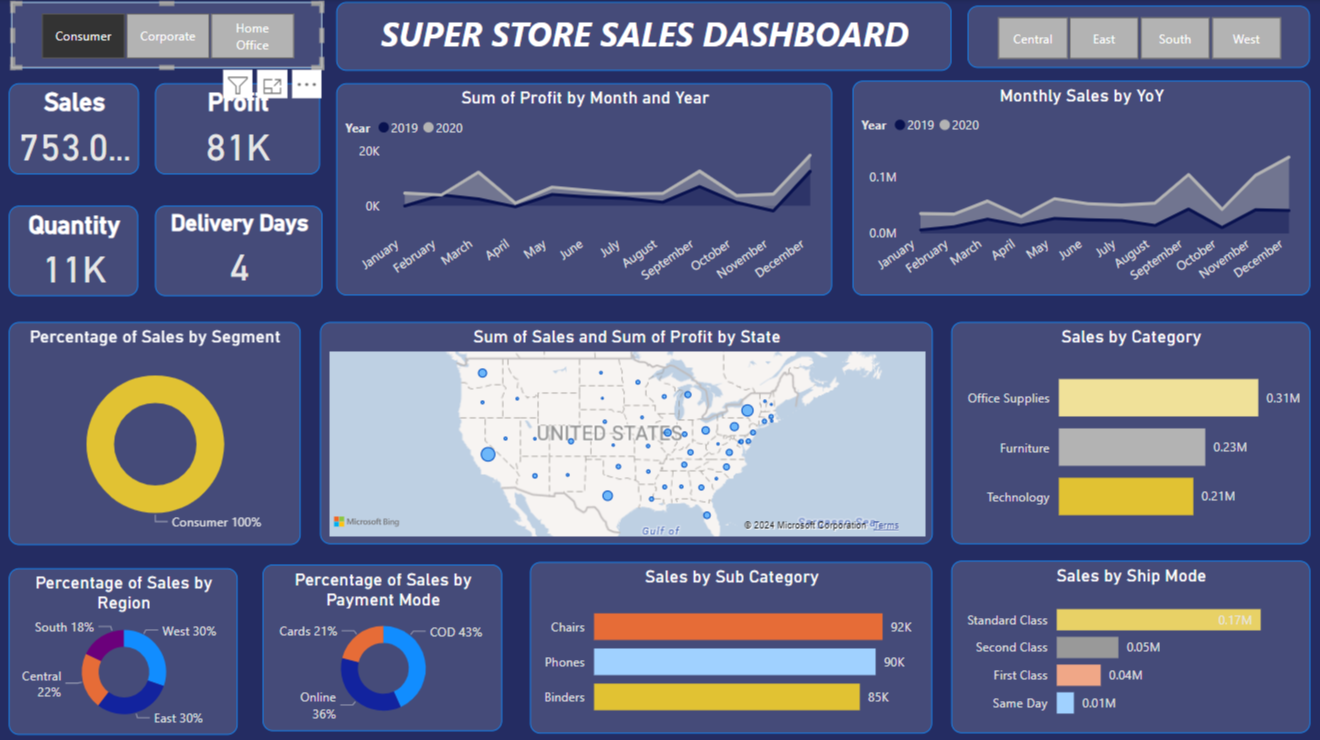

This screenshot's page, from the dashboard's own definition file:
{"tool":"powerbi","page":{"name":"Page 1","canvas":[1280,720],"ordinal":0},"visuals":[{"type":"clusteredBarChart","title":"Sales by Category","fields":{"Category":["SuperStore_Sales_Dataset.Category"],"Y":["Sum(SuperStore_Sales_Dataset.Sales)"]},"box":[920.2,311.2,346.1,214.7],"z":0},{"type":"clusteredBarChart","title":"Sales by Sub Category","fields":{"Category":["SuperStore_Sales_Dataset.Sub-Category"],"Y":["Sum(SuperStore_Sales_Dataset.Sales)"]},"box":[513.8,542.7,388.3,165.2],"z":1000},{"type":"clusteredBarChart","title":"Sales by Ship Mode","fields":{"Category":["SuperStore_Sales_Dataset.Ship Mode"],"Y":["Sum(SuperStore_Sales_Dataset.Sales)"]},"box":[920,541.2,346.2,166.2],"z":2000},{"type":"stackedAreaChart","title":"Monthly Sales by YoY","fields":{"Y":["Sum(SuperStore_Sales_Dataset.Sales)"],"Category":["SuperStore_Sales_Dataset.Order Date.Variation.Date Hierarchy.Month","SuperStore_Sales_Dataset.Order Date.Variation.Date Hierarchy.Day"],"Series":["SuperStore_Sales_Dataset.Order Date.Variation.Date Hierarchy.Year"]},"box":[825,78.8,441.2,207.5],"z":3000},{"type":"stackedAreaChart","fields":{"Category":["SuperStore_Sales_Dataset.Order Date.Variation.Date Hierarchy.Month","SuperStore_Sales_Dataset.Order Date.Variation.Date Hierarchy.Day"],"Series":["SuperStore_Sales_Dataset.Order Date.Variation.Date Hierarchy.Year"],"Y":["Sum(SuperStore_Sales_Dataset.Profit)"]},"box":[326.2,81.2,478.8,205],"z":4000},{"type":"map","fields":{"Category":["SuperStore_Sales_Dataset.State"],"Size":["Sum(SuperStore_Sales_Dataset.Sales)"]},"box":[311.2,311.2,591,214.7],"z":5000},{"type":"donutChart","title":"Percentage of Sales by Segment","fields":{"Category":["SuperStore_Sales_Dataset.Segment"],"Y":["Sum(SuperStore_Sales_Dataset.Sales)"]},"box":[11.2,311.2,281.2,215],"z":6000},{"type":"donutChart","title":"Percentage of Sales by Payment Mode","fields":{"Category":["SuperStore_Sales_Dataset.Payment Mode"],"Y":["Sum(SuperStore_Sales_Dataset.Sales)"]},"box":[255.7,545.1,231.6,160.4],"z":7000},{"type":"slicer","fields":{"Values":["SuperStore_Sales_Dataset.Region"]},"box":[936.2,6.2,330,60],"z":8000},{"type":"textbox","box":[326.2,2.5,593.8,66.2],"z":9000},{"type":"card","title":"Sales","fields":{"Values":["Sum(SuperStore_Sales_Dataset.Sales)"]},"box":[11.2,81.2,125,87.5],"z":10000},{"type":"card","title":"Quantity","fields":{"Values":["Sum(SuperStore_Sales_Dataset.Quantity)"]},"box":[11.2,198.8,125,87.5],"z":11000},{"type":"card","title":"Profit","fields":{"Values":["Sum(SuperStore_Sales_Dataset.Profit)"]},"box":[161.2,81.2,152.5,87.5],"z":12000},{"type":"card","title":"Delivery Days","fields":{"Values":["Avg(SuperStore_Sales_Dataset.AvgDelievery)"]},"box":[162.5,198.8,151.2,87.5],"z":13000},{"type":"donutChart","title":"Percentage of Sales by Region","fields":{"Category":["SuperStore_Sales_Dataset.Region"],"Y":["Sum(SuperStore_Sales_Dataset.Sales)"]},"box":[10.9,548.7,220.7,160.4],"z":14000},{"type":"slicer","fields":{"Values":["SuperStore_Sales_Dataset.Segment"]},"box":[11.2,2.5,300,63.8],"z":15000}]}

Visuals, with their boxes in screenshot pixels (x1, y1, x2, y2), scaled from the page's 1280x720 canvas onto the 1320x740 screenshot:
"Sales by Category" clusteredBarChart: bbox=[949, 320, 1306, 541]
"Sales by Sub Category" clusteredBarChart: bbox=[530, 558, 930, 728]
"Sales by Ship Mode" clusteredBarChart: bbox=[949, 556, 1306, 727]
"Monthly Sales by YoY" stackedAreaChart: bbox=[851, 81, 1306, 294]
stackedAreaChart - SuperStore_Sales_Dataset.Order Date.Variation.Date Hierarchy.Month x SuperStore_Sales_Dataset.Order Date.Variation.Date Hierarchy.Day: bbox=[336, 83, 830, 294]
map - SuperStore_Sales_Dataset.State x Sum(SuperStore_Sales_Dataset.Sales): bbox=[321, 320, 930, 541]
"Percentage of Sales by Segment" donutChart: bbox=[12, 320, 302, 541]
"Percentage of Sales by Payment Mode" donutChart: bbox=[264, 560, 503, 725]
slicer - SuperStore_Sales_Dataset.Region: bbox=[965, 6, 1306, 68]
textbox: bbox=[336, 3, 949, 71]
"Sales" card: bbox=[12, 83, 140, 173]
"Quantity" card: bbox=[12, 204, 140, 294]
"Profit" card: bbox=[166, 83, 324, 173]
"Delivery Days" card: bbox=[168, 204, 324, 294]
"Percentage of Sales by Region" donutChart: bbox=[11, 564, 239, 729]
slicer - SuperStore_Sales_Dataset.Segment: bbox=[12, 3, 321, 68]
